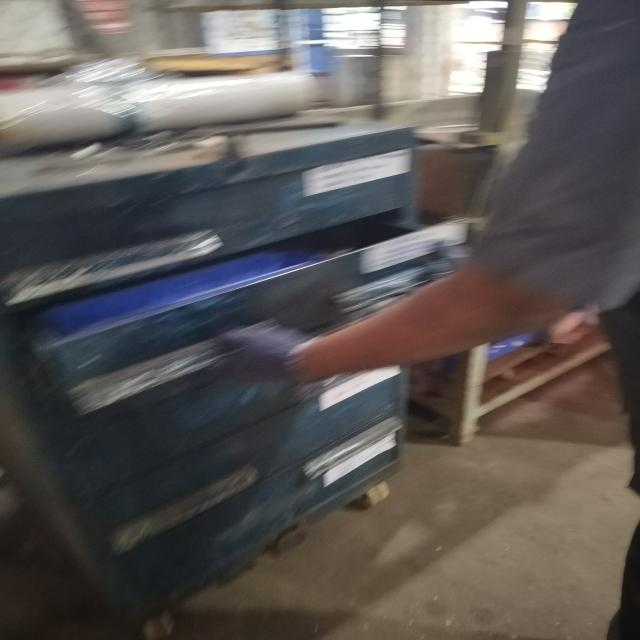Gloves-Detection: (225, 328, 293, 376)
